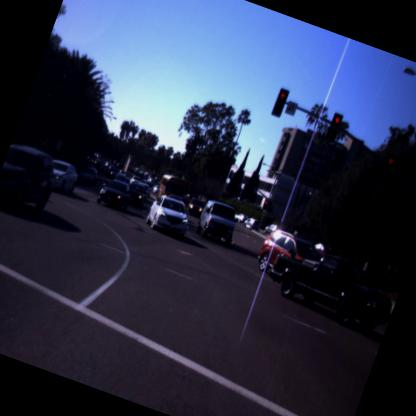trafficlight: (265, 82, 294, 124), (375, 150, 401, 188), (322, 109, 348, 146)
